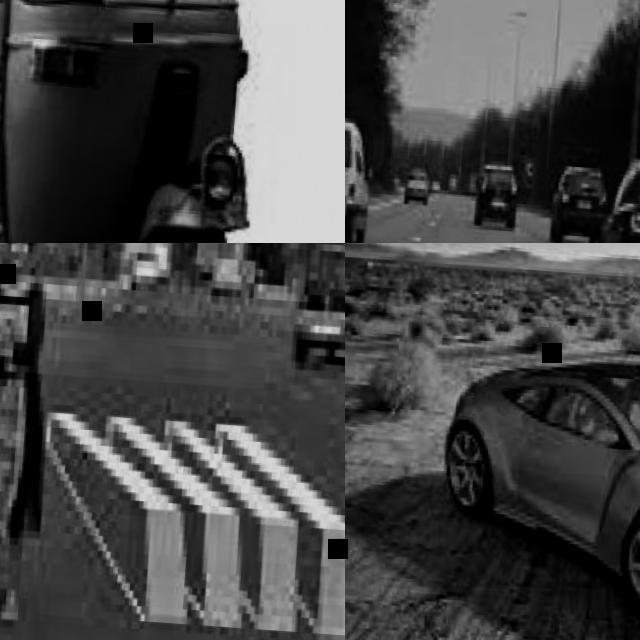car: (444, 247, 639, 639), (8, 0, 249, 237)
